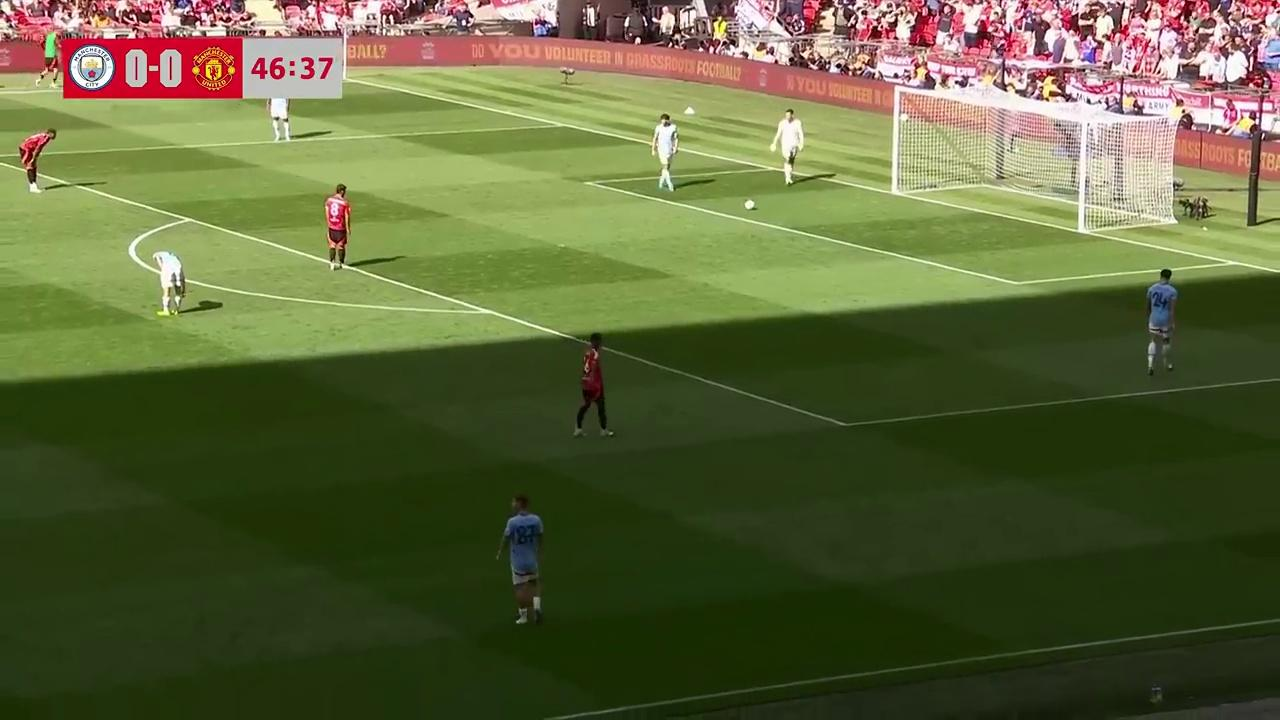ball: (743, 196, 756, 211)
player: (496, 494, 544, 626), (572, 336, 614, 438), (1145, 267, 1178, 376), (152, 246, 187, 317), (769, 112, 802, 186), (325, 184, 351, 271), (18, 130, 51, 191), (653, 115, 678, 190), (266, 92, 291, 142)
